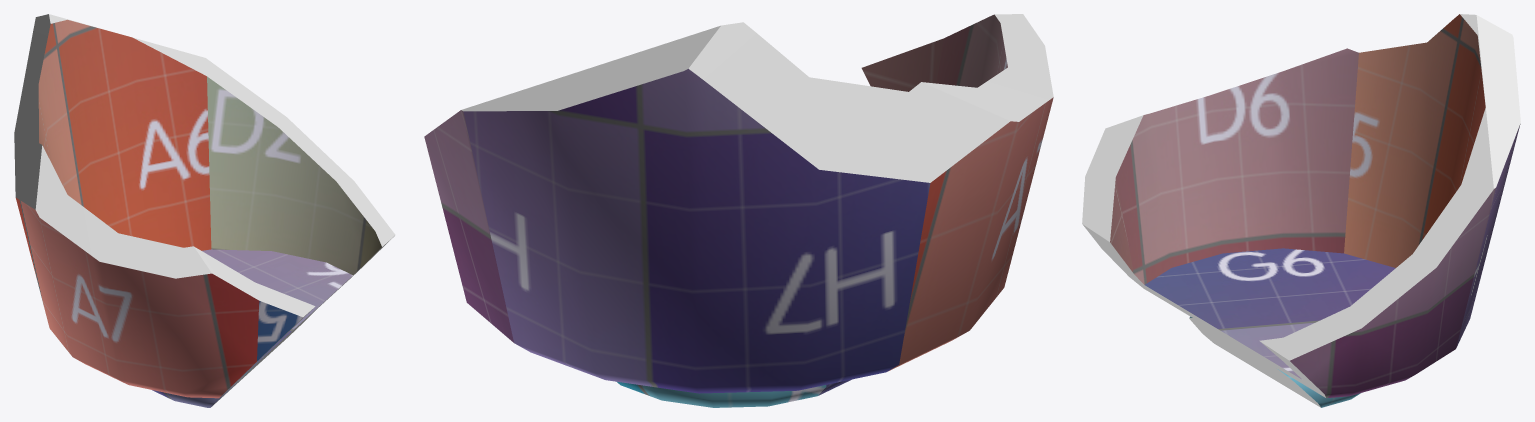
Rendered from LongVase_SHAT_cell_003.fbx.
3 views of the same model, side by side, from view 1: azimuth 30°, elevation 25°; view 2: azimuth 150°, elevation 25°; view 3: azimuth 270°, elevation 25° (orthographic). The views are drawn at different scales.
Parts seen in each view (by area): view 1: LongVase_SHAT_cell_003; view 2: LongVase_SHAT_cell_003; view 3: LongVase_SHAT_cell_003.
Boxes of the visible parts, x1,y1,x2,y2 form: LongVase_SHAT_cell_003: [14, 14, 395, 407]; LongVase_SHAT_cell_003: [424, 14, 1053, 407]; LongVase_SHAT_cell_003: [1082, 14, 1520, 407].
Bounding box in the file's own units: 0.8931 × 0.7306 × 0.9298.
Materials: 2 (1 with a texture image).
